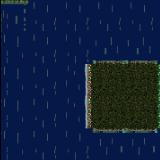Interaction: (0, 0, 33, 14)
Slow: (0, 0, 160, 60), (0, 60, 83, 131), (0, 131, 160, 160)
